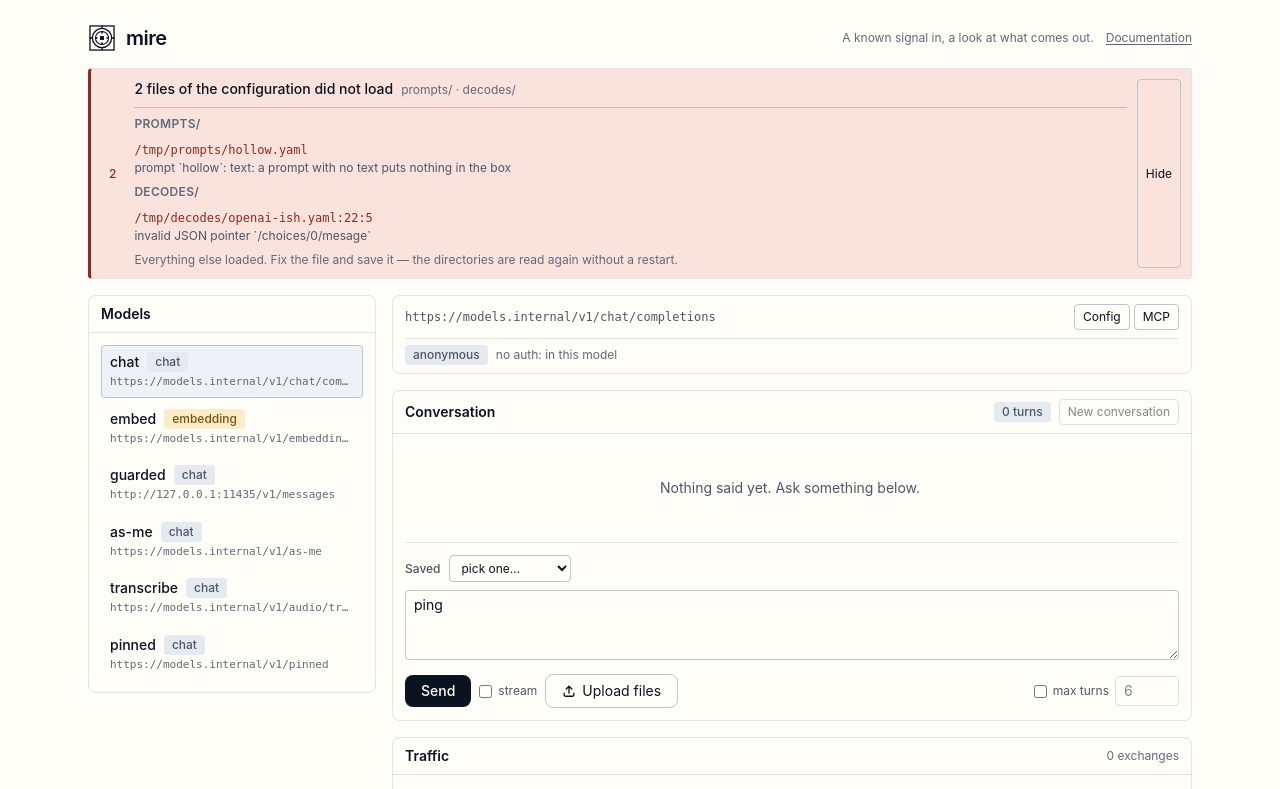
Scenario: App › puts a server in the run when it is switched on, and takes it back out
Click the button "guarded chat http://127.0.0.1:11435/v1/messages": (232, 484) [110, 465, 354, 504]
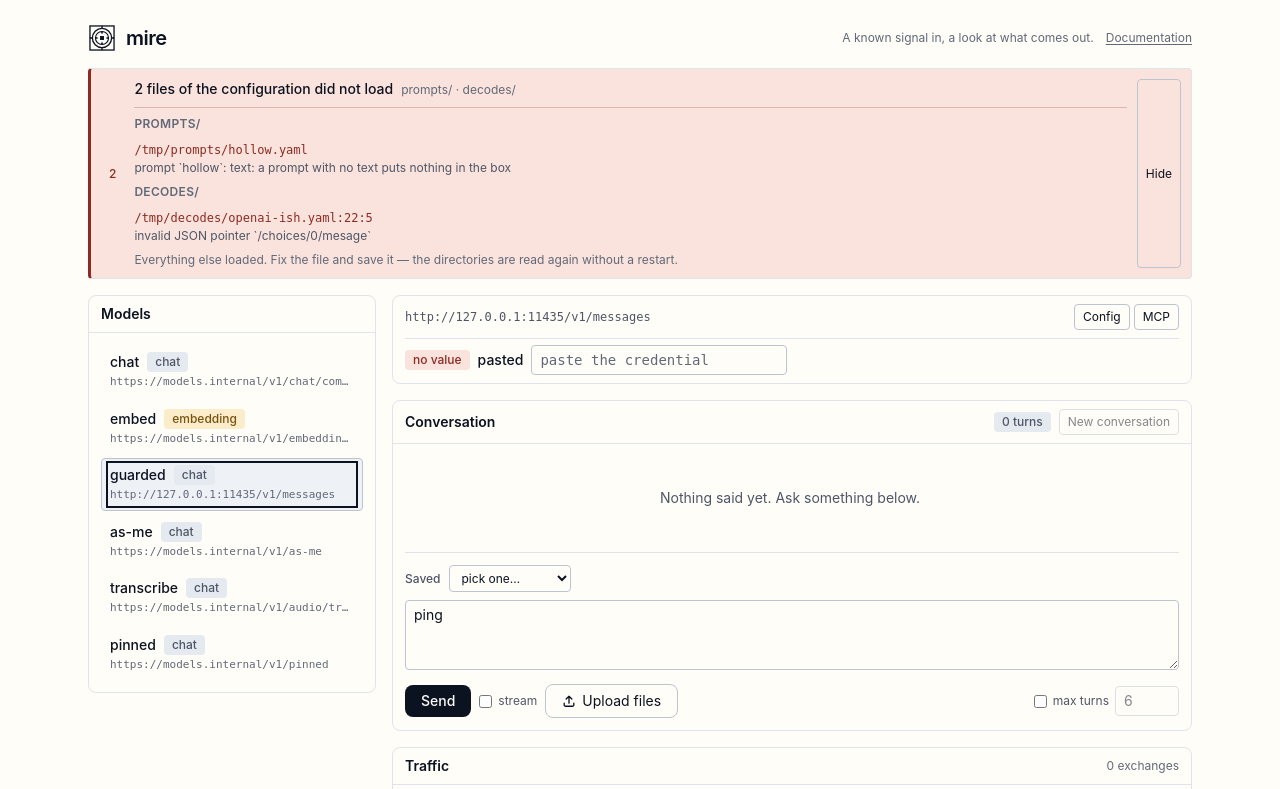
Click the button "MCP": (1156, 317) [1134, 304, 1179, 330]
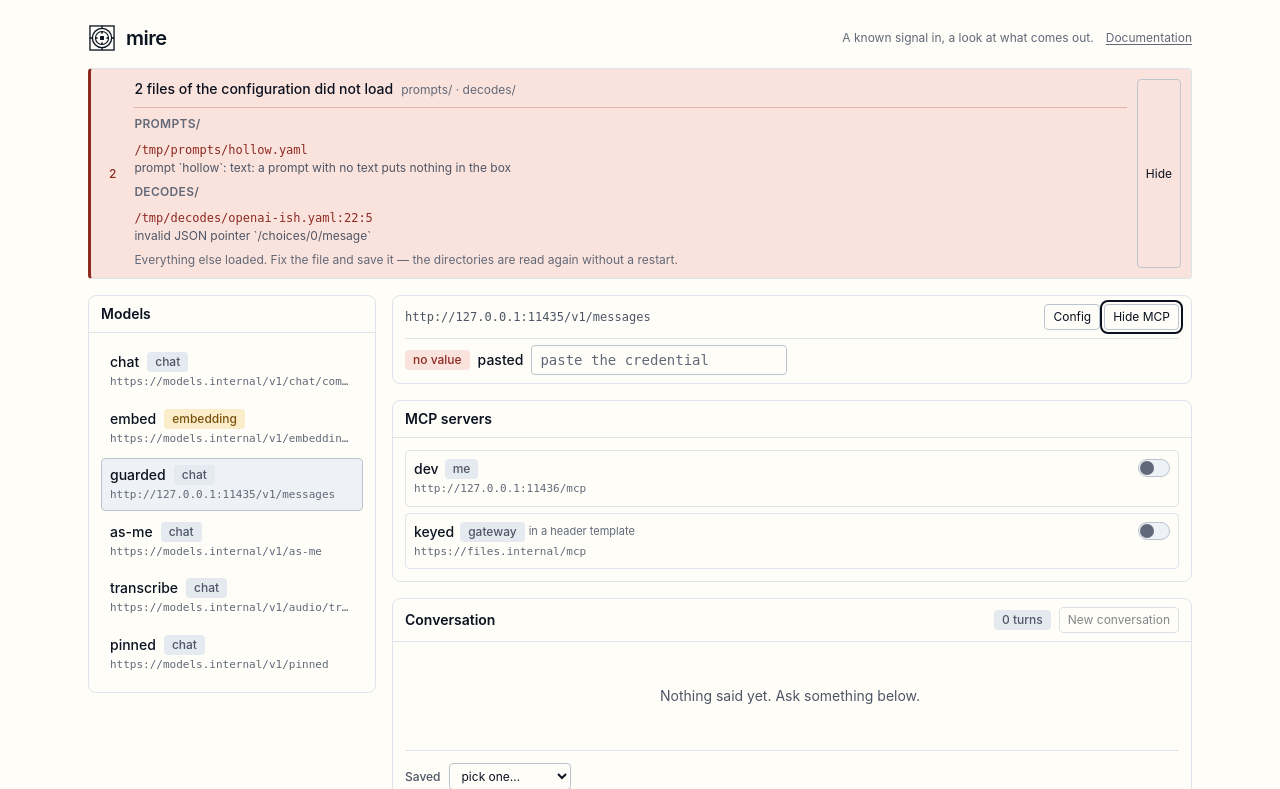
Expected: the button "Sign in to me" is not shown
Click the switch named "dev": (1154, 468) [1138, 459, 1170, 477]
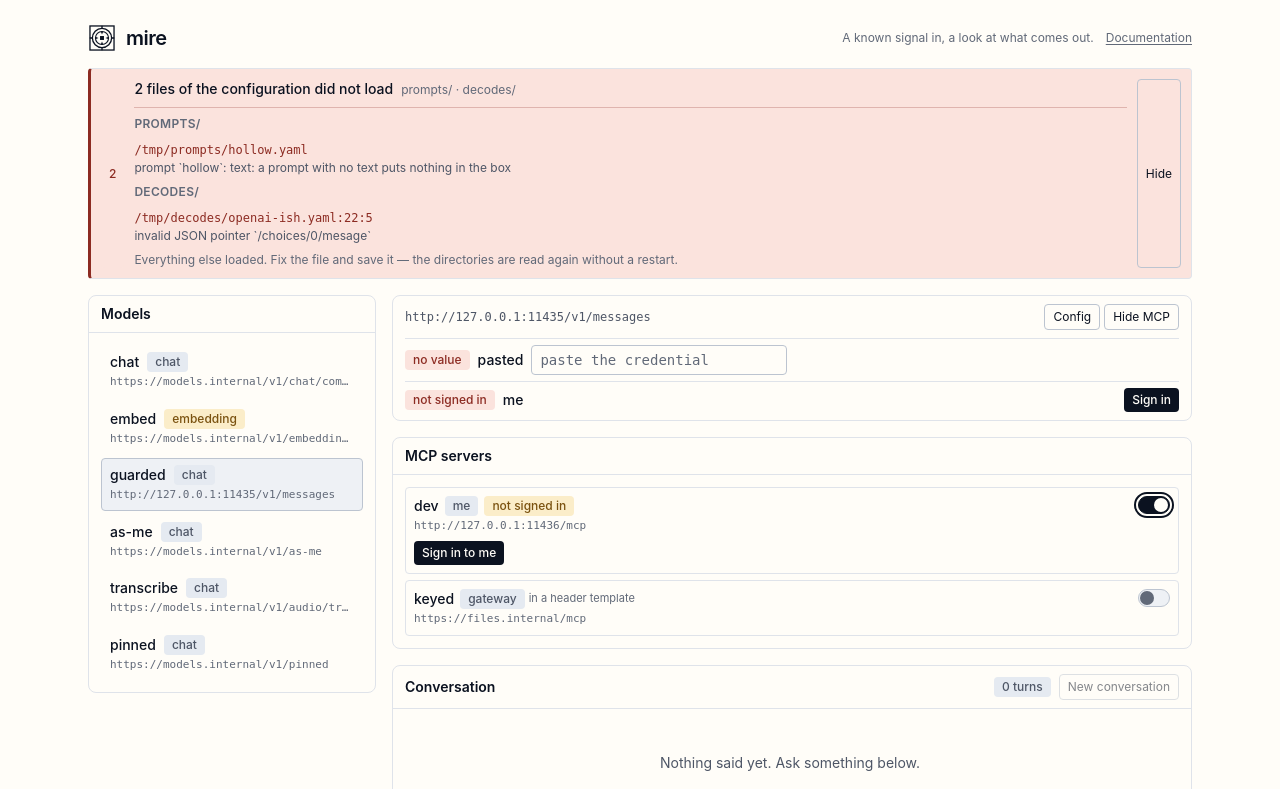
Now the button "Sign in to me" is shown, box [414, 540, 504, 564]
Now the text "not signed in" below "pasted" is shown, box [413, 392, 487, 407]
Click the switch named "dev": (1154, 505) [1138, 496, 1170, 514]
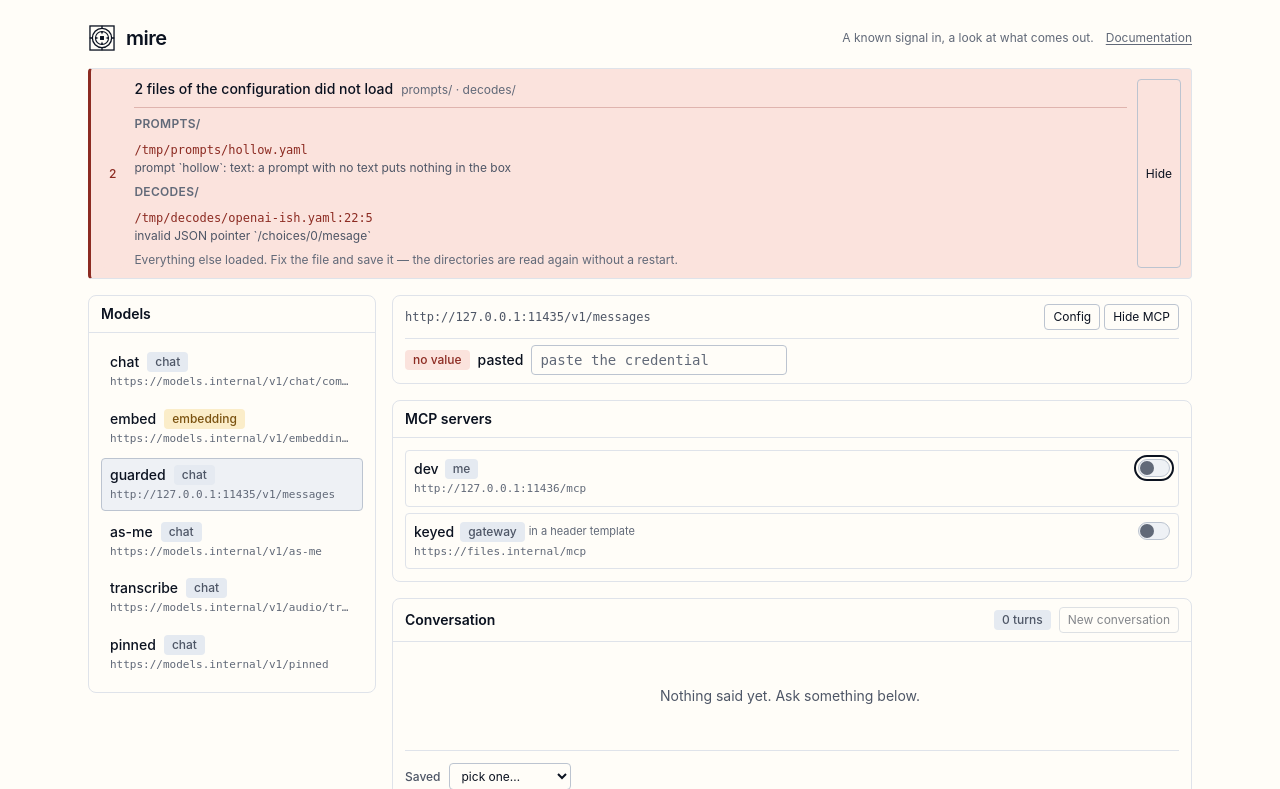
Now the button "Sign in to me" is gone
